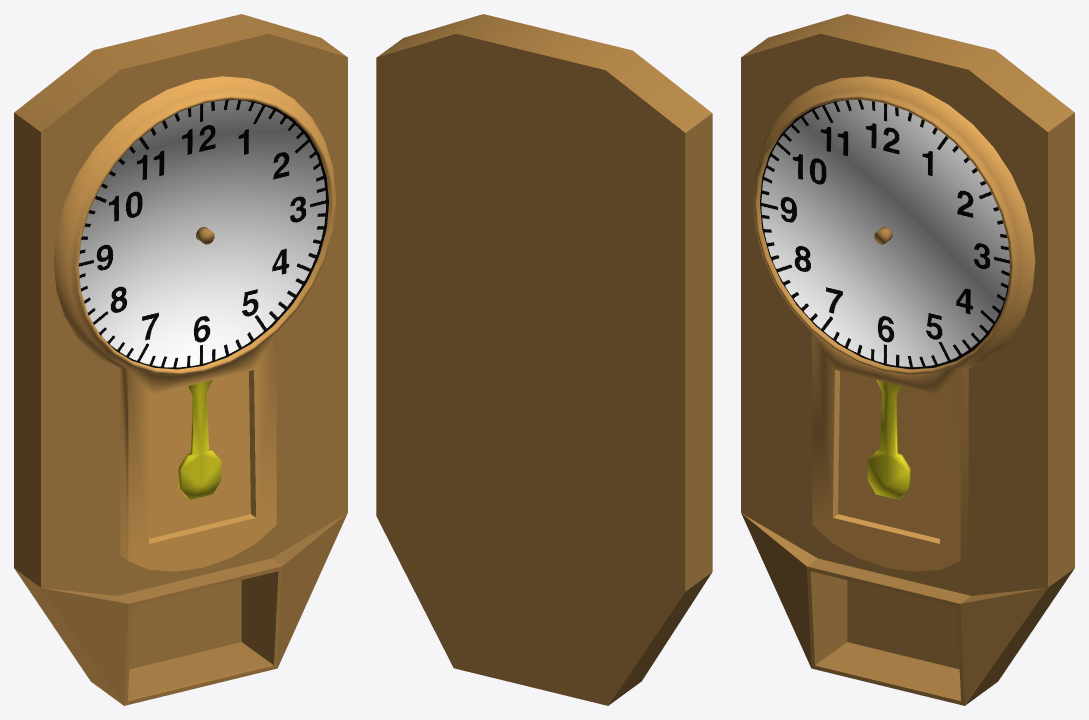
File: clock_opened.glb
The picture shows the model from 3 angles, left to right: view 1: azimuth 30°, elevation 25°; view 2: azimuth 150°, elevation 25°; view 3: azimuth 330°, elevation 25°; orthographic projection.
Visible parts, largest first — view 1: full_clock_noarrows_opened; view 2: full_clock_noarrows_opened; view 3: full_clock_noarrows_opened.
Part boxes in pixels (x1,y1,x2,y2): full_clock_noarrows_opened: [14, 14, 347, 705]; full_clock_noarrows_opened: [376, 14, 712, 705]; full_clock_noarrows_opened: [741, 14, 1074, 705].
Size of the model in its own units: 0.451 by 0.8858 by 0.1039.
4 materials, 1 textured.
